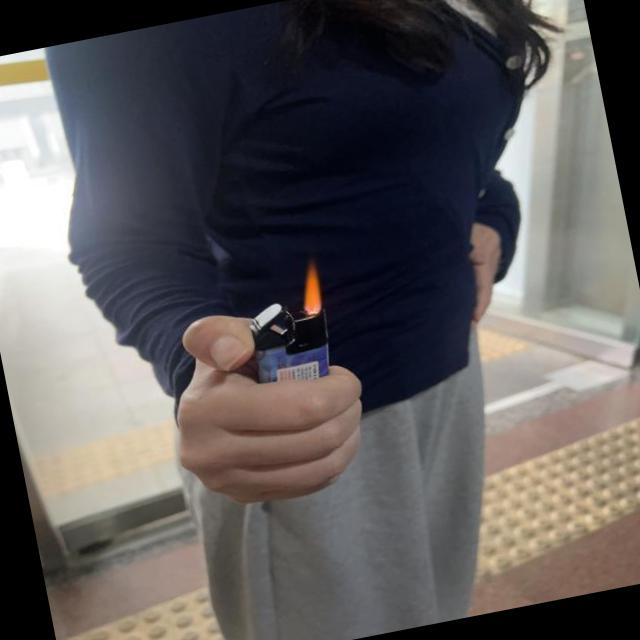Fire: (294, 262, 325, 312)
